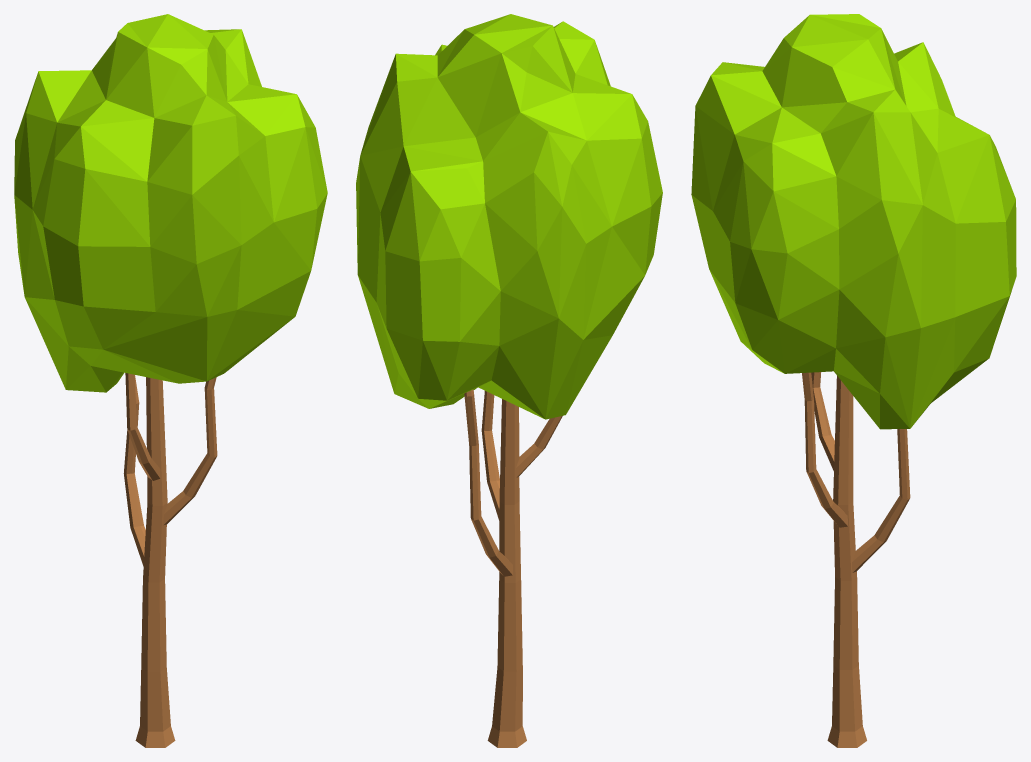
Rendered from Tree_14.fbx.
3 renders of one model, left to right at view 1: azimuth 30°, elevation 25°; view 2: azimuth 150°, elevation 25°; view 3: azimuth 270°, elevation 25°, orthographic.
Parts seen in each view (by area): view 1: екуу_14; view 2: екуу_14; view 3: екуу_14.
Boxes of the visible parts, x1=… form: екуу_14: x1=14, y1=14, x2=327, y2=747; екуу_14: x1=356, y1=14, x2=662, y2=747; екуу_14: x1=691, y1=14, x2=1016, y2=747.
Size of the model in its own units: 229 by 600 by 248.
